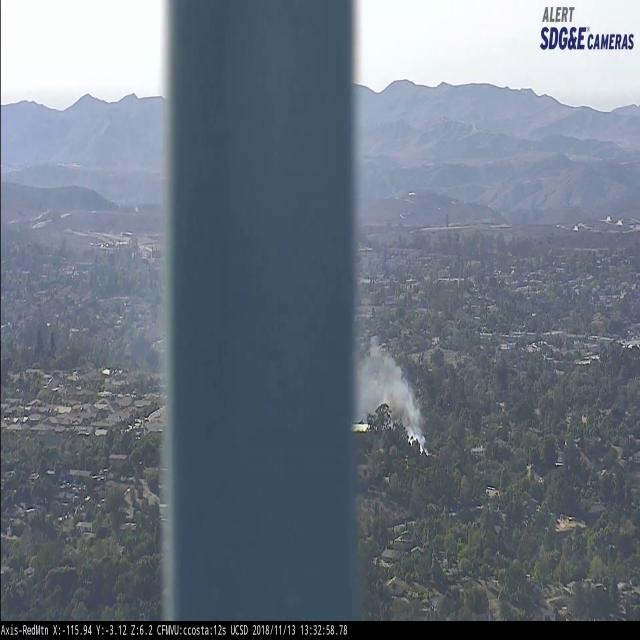smoke: (354, 328, 436, 466)
